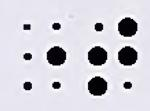dot_5: (23, 22, 66, 90)
two_cell_alphabet_talaga: (87, 16, 138, 96)
